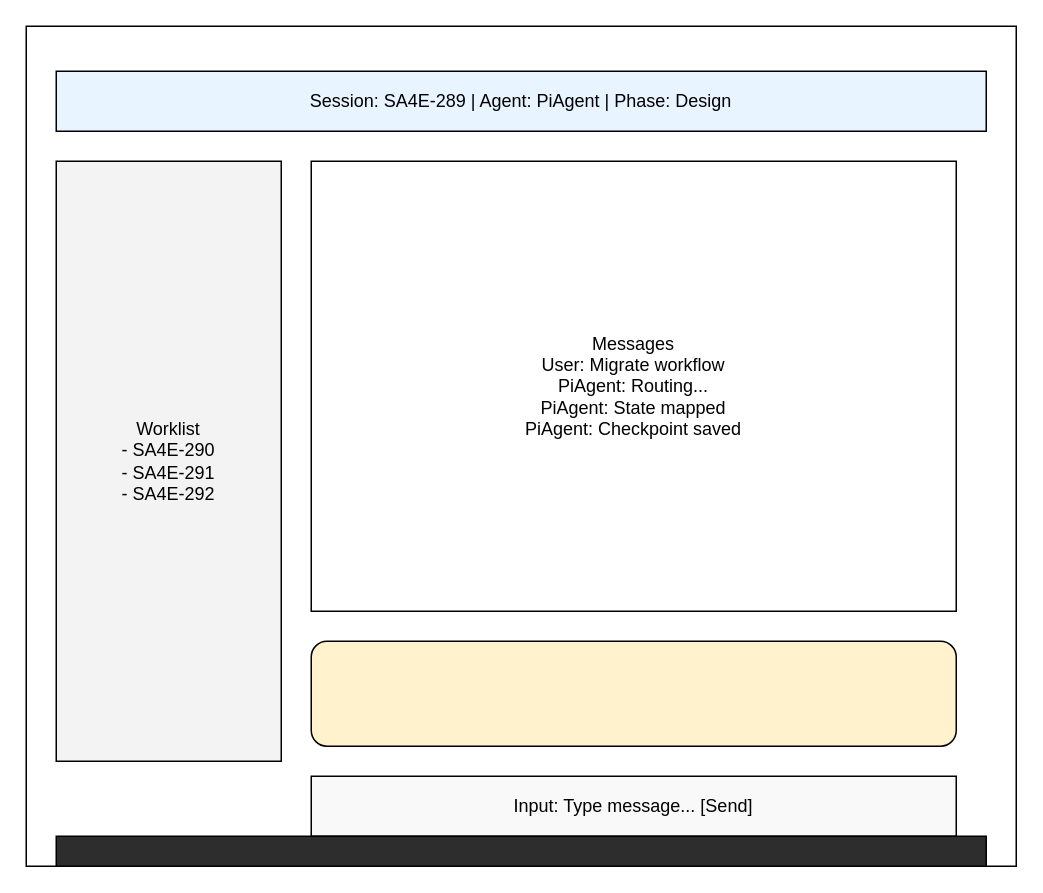
Image size: 1043x893. Some labels were removed from this diagram. Here are the shapes that lost their labels. From the top down, the centre of each, then its label:
At point 633,693: "Approval Request Tool: create_checkpoint [Approve] [Reject]".
At point 520,850: "Status: PiProvider WebSocket Connected | Latency 120ms".
